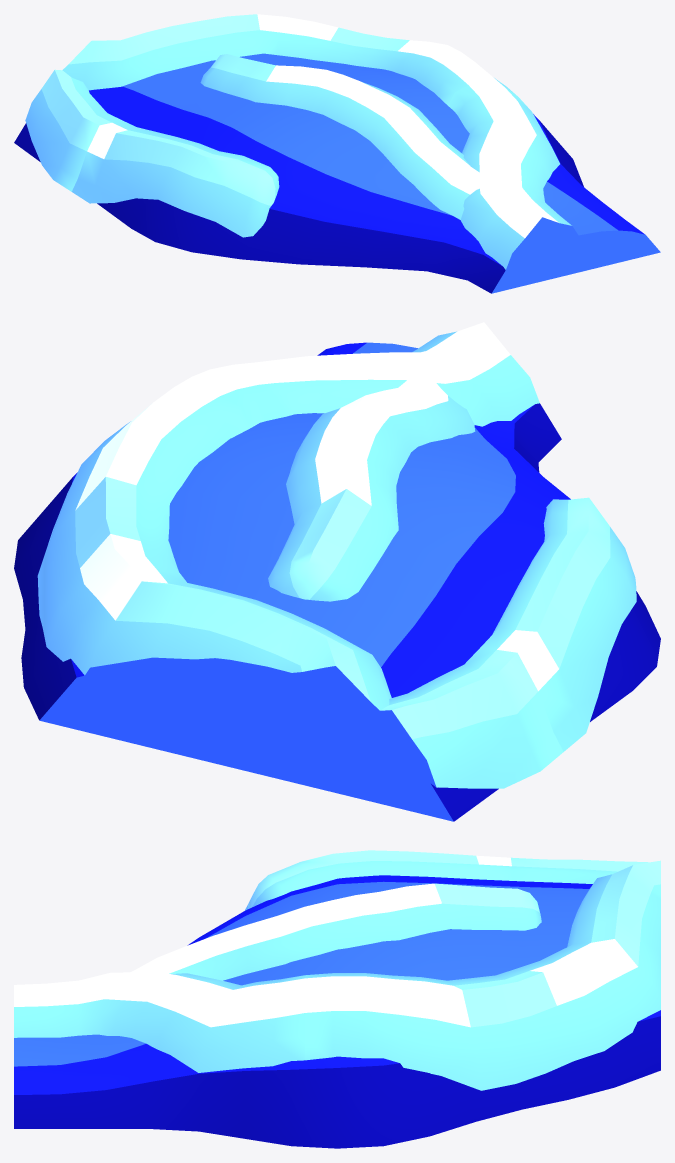
Rendered from shot_lightning_250.glb.
3 views of the same model, one above another, from view 1: azimuth 30°, elevation 25°; view 2: azimuth 150°, elevation 25°; view 3: azimuth 270°, elevation 25° (orthographic). The views are drawn at different scales.
Visible parts, largest first — view 1: shot_lightning_250_0, shot_lightning_250_1, shot_lightning_250_3, shot_lightning_250_2; view 2: shot_lightning_250_0, shot_lightning_250_1, shot_lightning_250_3, shot_lightning_250_2; view 3: shot_lightning_250_1, shot_lightning_250_0, shot_lightning_250_2, shot_lightning_250_3.
Part boxes in pixels (x1=…): shot_lightning_250_0: x1=14, y1=53, x2=660, y2=293; shot_lightning_250_1: x1=62, y1=14, x2=578, y2=273; shot_lightning_250_3: x1=25, y1=69, x2=279, y2=237; shot_lightning_250_2: x1=200, y1=54, x2=489, y2=219; shot_lightning_250_0: x1=14, y1=342, x2=660, y2=821; shot_lightning_250_1: x1=37, y1=322, x2=539, y2=766; shot_lightning_250_3: x1=346, y1=497, x2=636, y2=788; shot_lightning_250_2: x1=268, y1=368, x2=475, y2=601; shot_lightning_250_1: x1=14, y1=860, x2=660, y2=1090; shot_lightning_250_0: x1=14, y1=875, x2=660, y2=1148; shot_lightning_250_2: x1=130, y1=883, x2=541, y2=980; shot_lightning_250_3: x1=244, y1=850, x2=648, y2=910.
Bounding box in the file's own units: 12.26 × 3.21 × 14.
